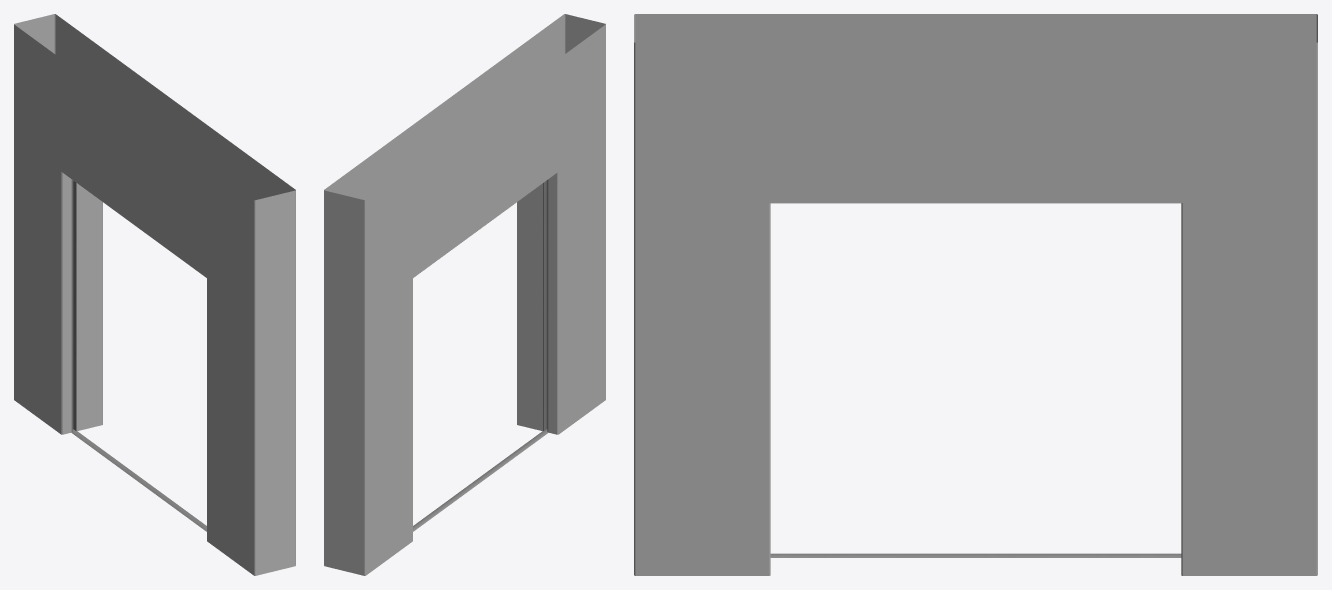
The model's file is SM_StoreFront_Solid_02.fbx.
3 renders of one model, left to right at view 1: azimuth 30°, elevation 25°; view 2: azimuth 150°, elevation 25°; view 3: azimuth 270°, elevation 25°, orthographic. The views are drawn at different scales.
Visible parts, largest first — view 1: SM_StoreFront_Solid_02_LOD0; view 2: SM_StoreFront_Solid_02_LOD0; view 3: SM_StoreFront_Solid_02_LOD0.
Part boxes in pixels (x1=…): SM_StoreFront_Solid_02_LOD0: x1=14, y1=14, x2=295, y2=575; SM_StoreFront_Solid_02_LOD0: x1=324, y1=14, x2=605, y2=575; SM_StoreFront_Solid_02_LOD0: x1=634, y1=14, x2=1317, y2=575.
Bounding box in the file's own units: 50 × 500 × 430.
